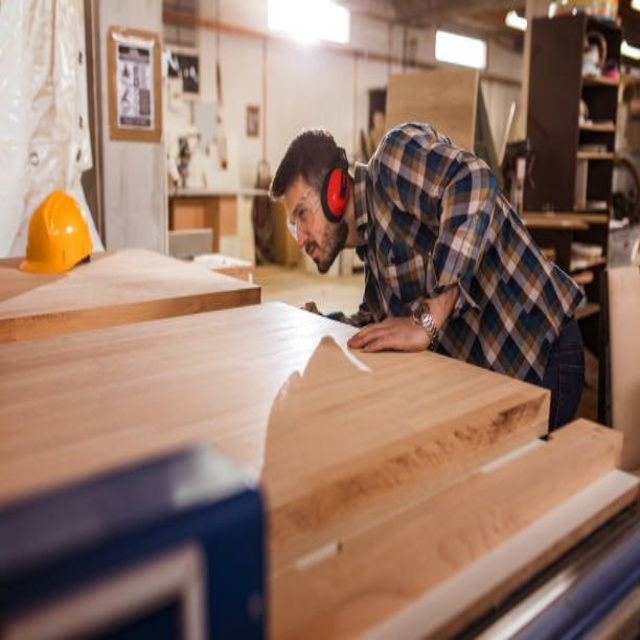Gafas: (285, 184, 323, 243)
Sin_guantes: (348, 311, 426, 353)
Sin_mascara: (298, 231, 327, 270)
